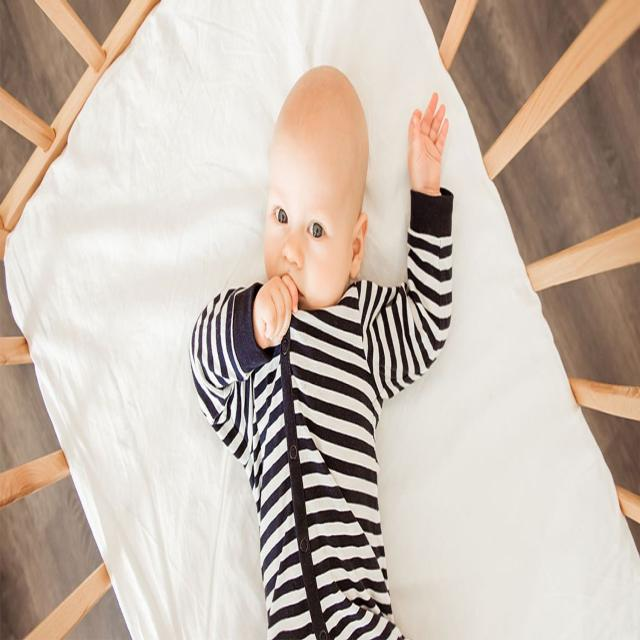child: (187, 60, 454, 640)
